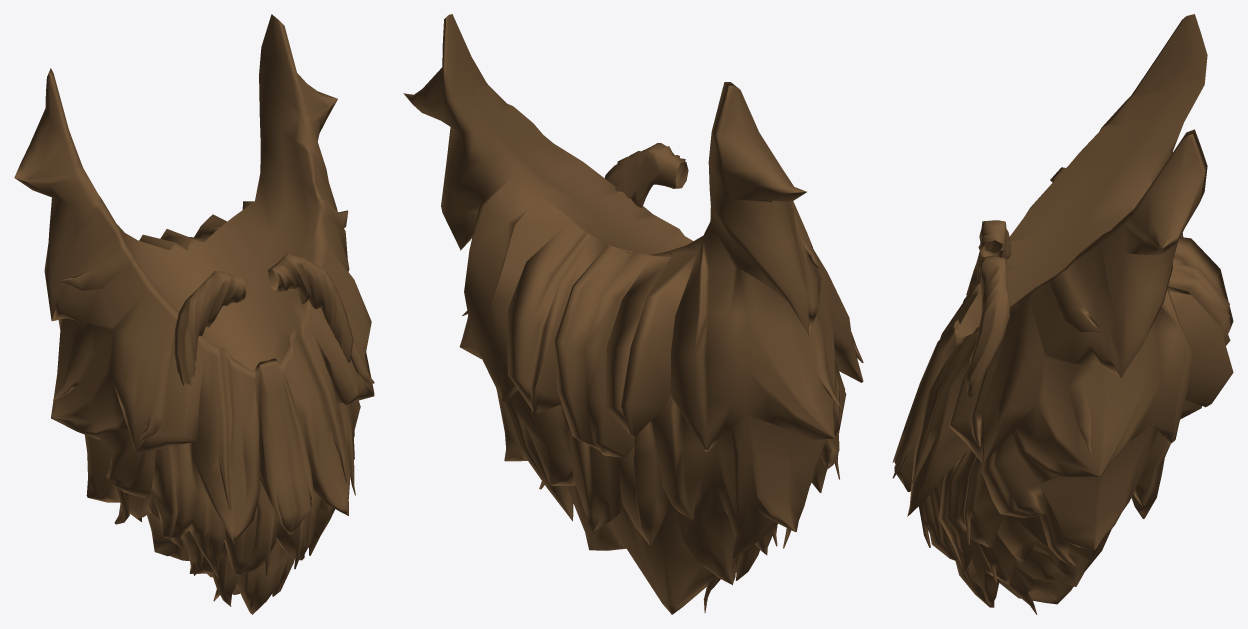
The model's file is beard.fbx.
3 views of the same model, side by side, from view 1: azimuth 30°, elevation 25°; view 2: azimuth 150°, elevation 25°; view 3: azimuth 270°, elevation 25° (orthographic). The views are drawn at different scales.
Visible parts, largest first — view 1: polySurface48, polySurface39, polySurface47; view 2: polySurface48, polySurface47; view 3: polySurface48, polySurface47, polySurface39.
Boxes of the visible parts, x1,y1,x2,y2 form: polySurface48: [14, 14, 374, 614]; polySurface39: [174, 271, 246, 385]; polySurface47: [268, 253, 353, 362]; polySurface48: [403, 14, 863, 614]; polySurface47: [604, 143, 688, 207]; polySurface48: [892, 14, 1233, 614]; polySurface47: [966, 255, 1010, 397]; polySurface39: [966, 220, 1011, 295].
Bounding box in the file's own units: 5.83 × 8.66 × 4.97.
